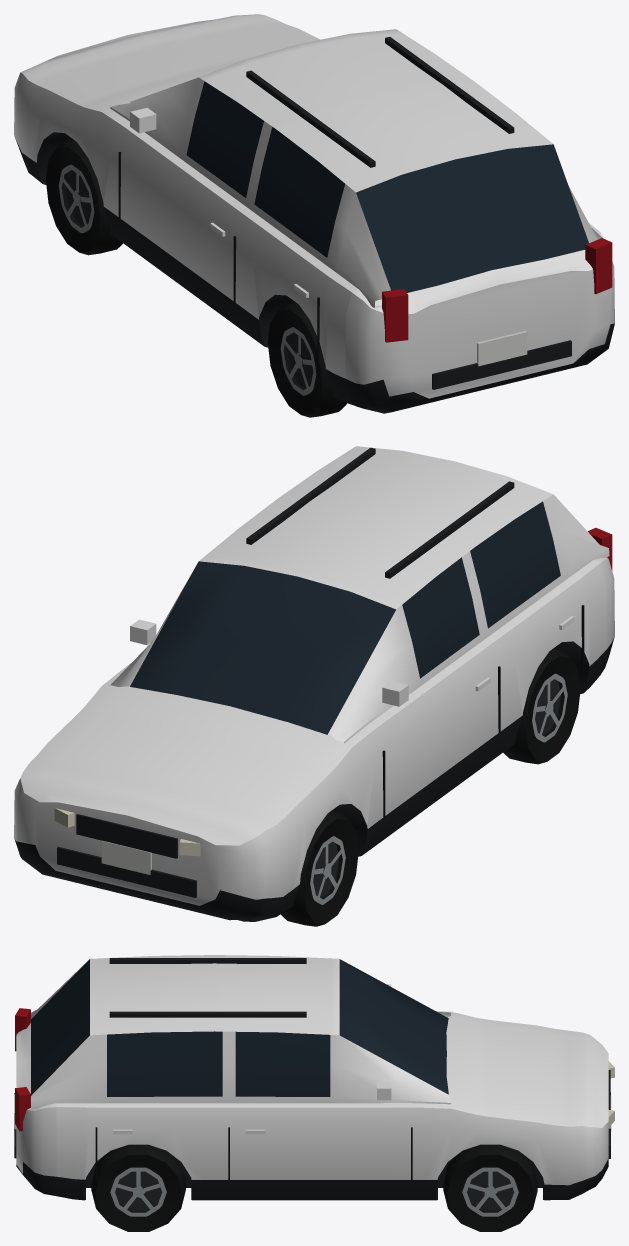
Rendered from suv_drive.glb.
3 renders of one model, top to bottom at view 1: azimuth 30°, elevation 25°; view 2: azimuth 150°, elevation 25°; view 3: azimuth 270°, elevation 25°, orthographic. The views are drawn at different scales.
Visible parts, largest first — view 1: suv, wheel_fl, wheel_rl, tail; view 2: suv, wheel_fl, wheel_rl, head; view 3: suv, wheel_fr, wheel_rr, tail.
Boxes of the visible parts, left/top/right/bottom form: suv: left=14, top=14, right=614, bottom=413; wheel_fl: left=45, top=139, right=122, bottom=255; wheel_rl: left=267, top=302, right=346, bottom=417; tail: left=382, top=238, right=612, bottom=342; suv: left=14, top=446, right=614, bottom=921; wheel_fl: left=281, top=811, right=358, bottom=926; wheel_rl: left=503, top=648, right=580, bottom=764; head: left=54, top=808, right=200, bottom=856; suv: left=14, top=955, right=611, bottom=1200; wheel_fr: left=443, top=1144, right=537, bottom=1231; wheel_rr: left=91, top=1144, right=185, bottom=1231; tail: left=15, top=1008, right=30, bottom=1131.
Bounding box in the file's own units: 1.88 × 1.68 × 4.58.
